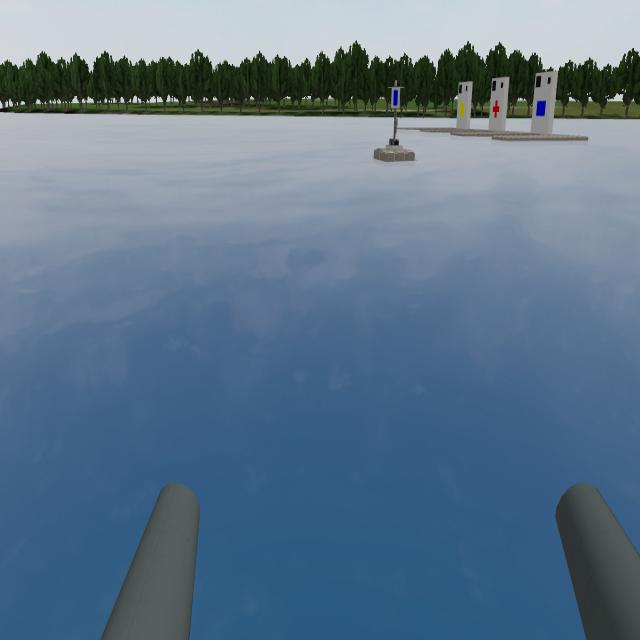blue_pole: (384, 80, 406, 116)
